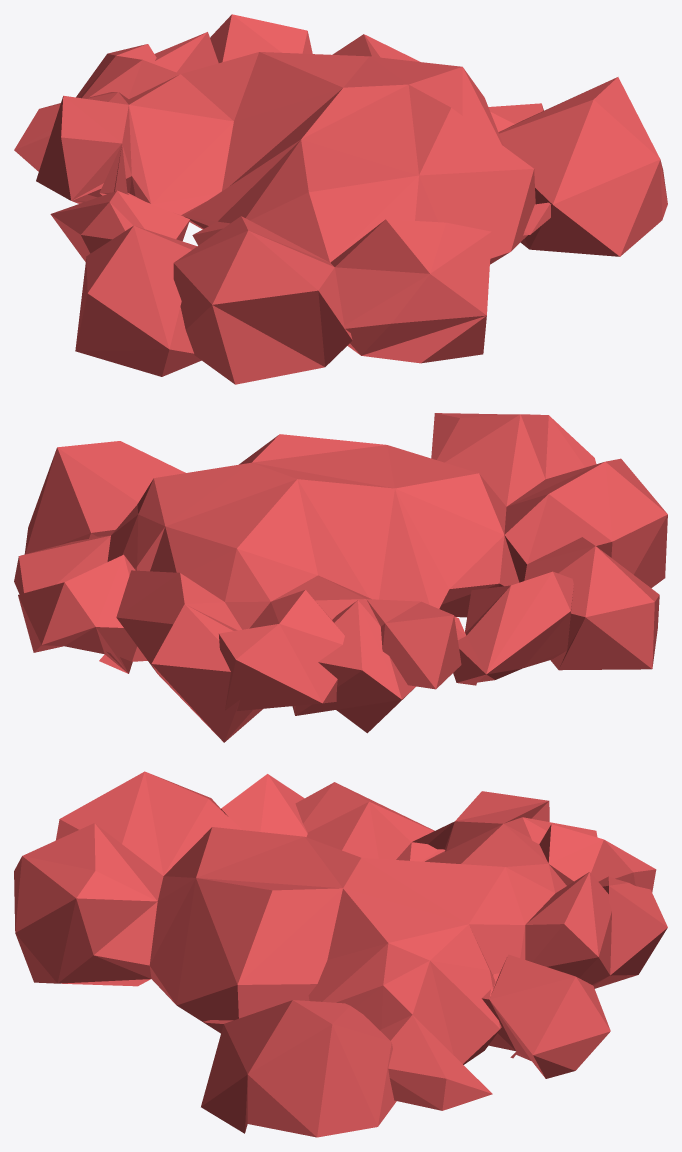
The model's file is cloud 4.fbx.
The picture shows the model from 3 angles, top to bottom: view 1: azimuth 30°, elevation 25°; view 2: azimuth 150°, elevation 25°; view 3: azimuth 270°, elevation 25°; orthographic projection. The views are drawn at different scales.
Parts seen in each view (by area): view 1: Sphere.018; view 2: Sphere.018; view 3: Sphere.018.
Part boxes in pixels (left/top/right/bottom): Sphere.018: left=14, top=14, right=667, bottom=384; Sphere.018: left=14, top=413, right=667, bottom=742; Sphere.018: left=14, top=771, right=667, bottom=1137.
Size of the model in its own units: 16191 by 4111 by 15160.
